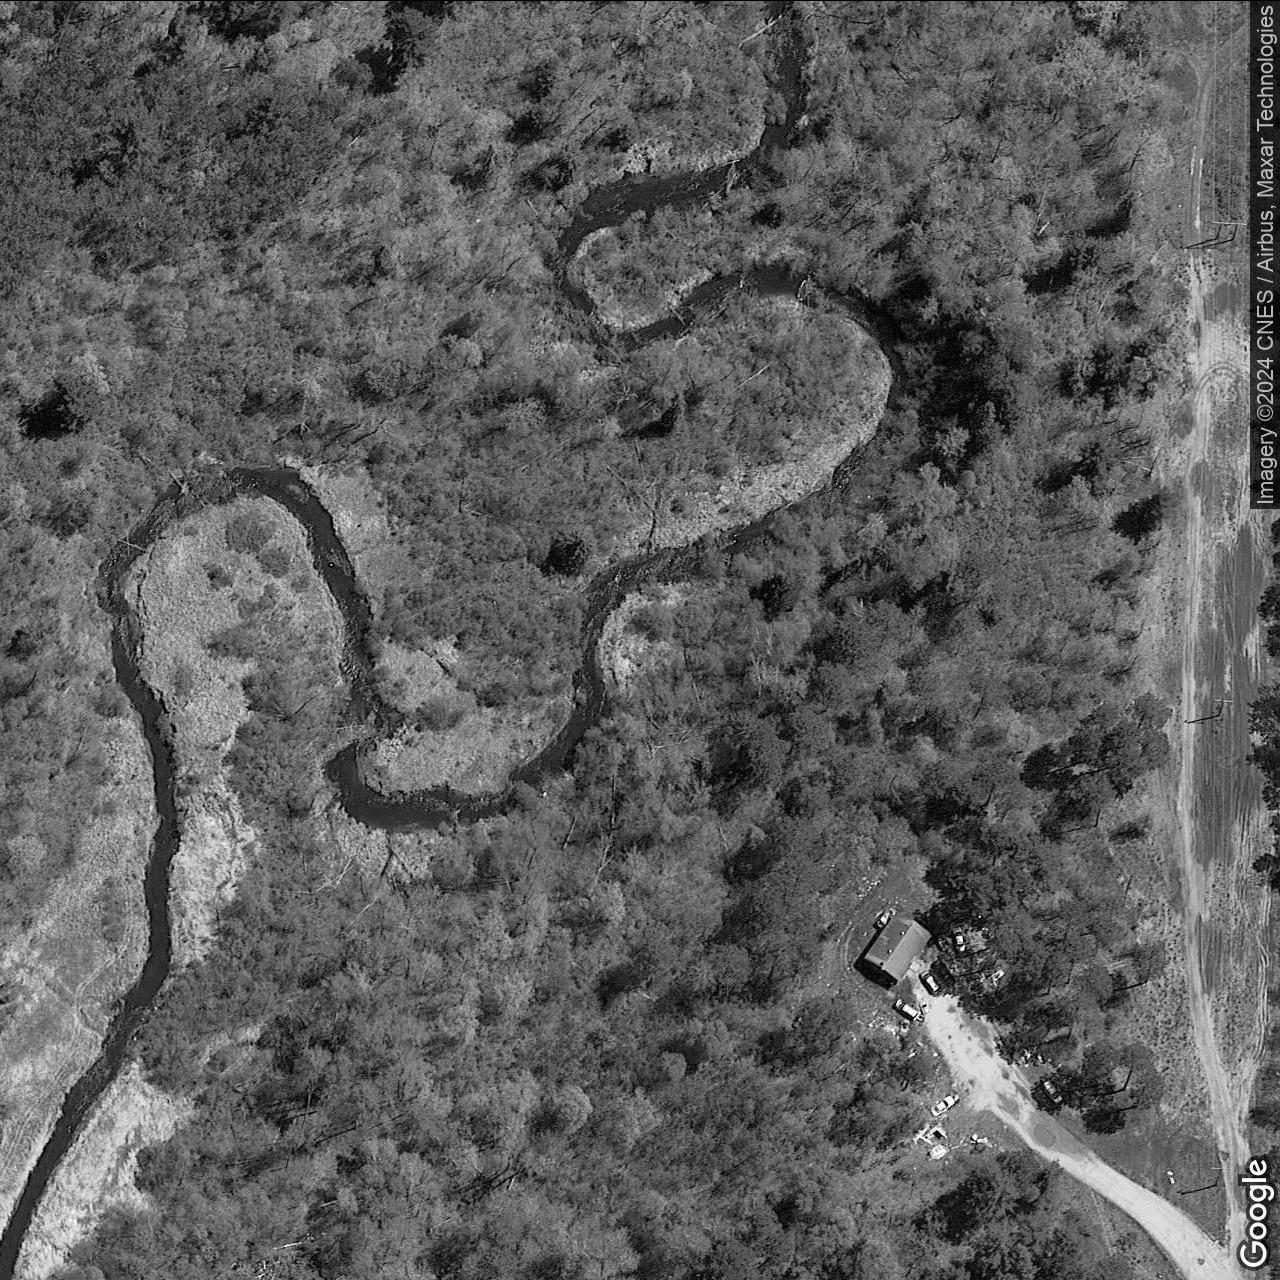House: (860, 911, 936, 983)
